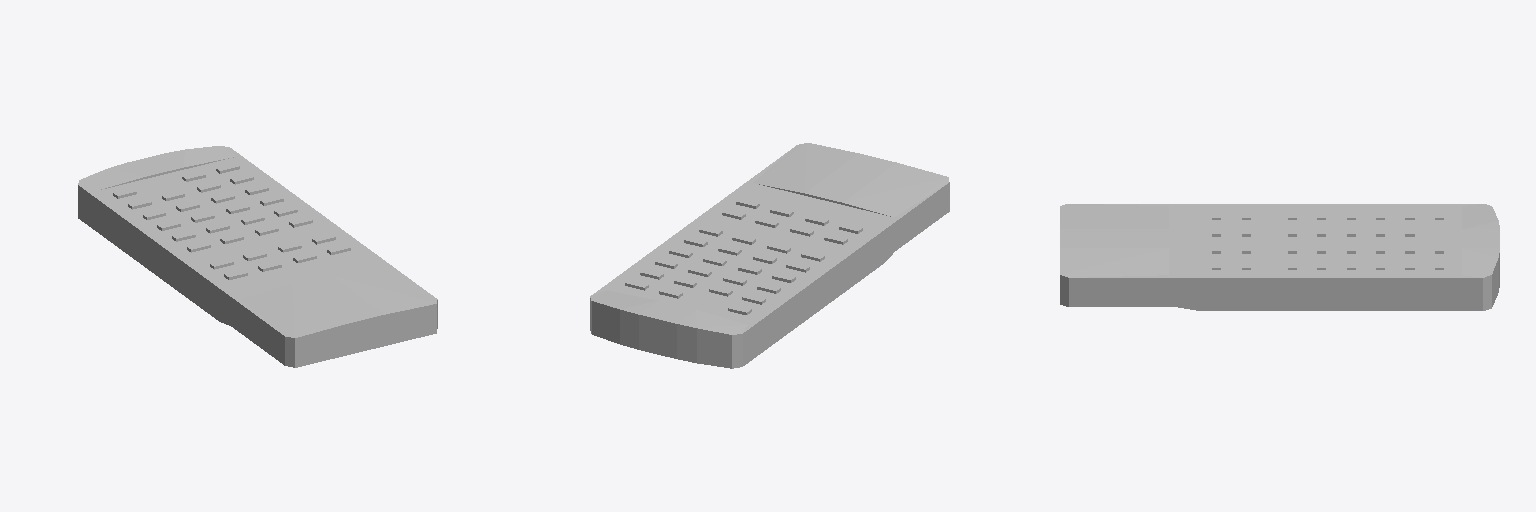
The model's file is Vintage_remote_LOD1.obj.
3 renders of one model, left to right at view 1: azimuth 30°, elevation 25°; view 2: azimuth 150°, elevation 25°; view 3: azimuth 270°, elevation 25°, orthographic.
Parts seen in each view (by area): view 1: Vintage_remote_LOD1_Plane.107; view 2: Vintage_remote_LOD1_Plane.107; view 3: Vintage_remote_LOD1_Plane.107.
Boxes of the visible parts, <box> form: Vintage_remote_LOD1_Plane.107: <box>78,146,437,367</box>; Vintage_remote_LOD1_Plane.107: <box>590,143,949,368</box>; Vintage_remote_LOD1_Plane.107: <box>1060,204,1499,310</box>.
Bounding box in the file's own units: 0.06 × 0.0135 × 0.15.